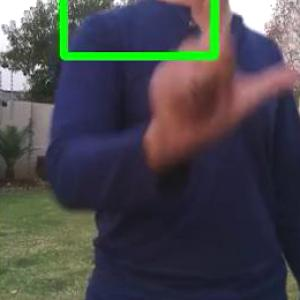land_hand: (139, 0, 299, 154)
